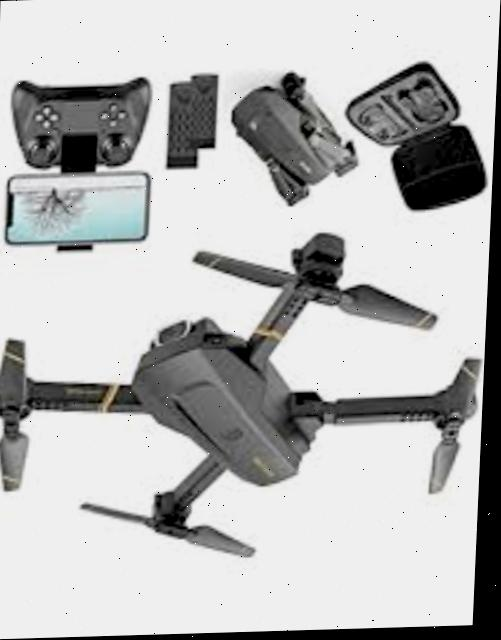drone: (0, 227, 493, 581)
